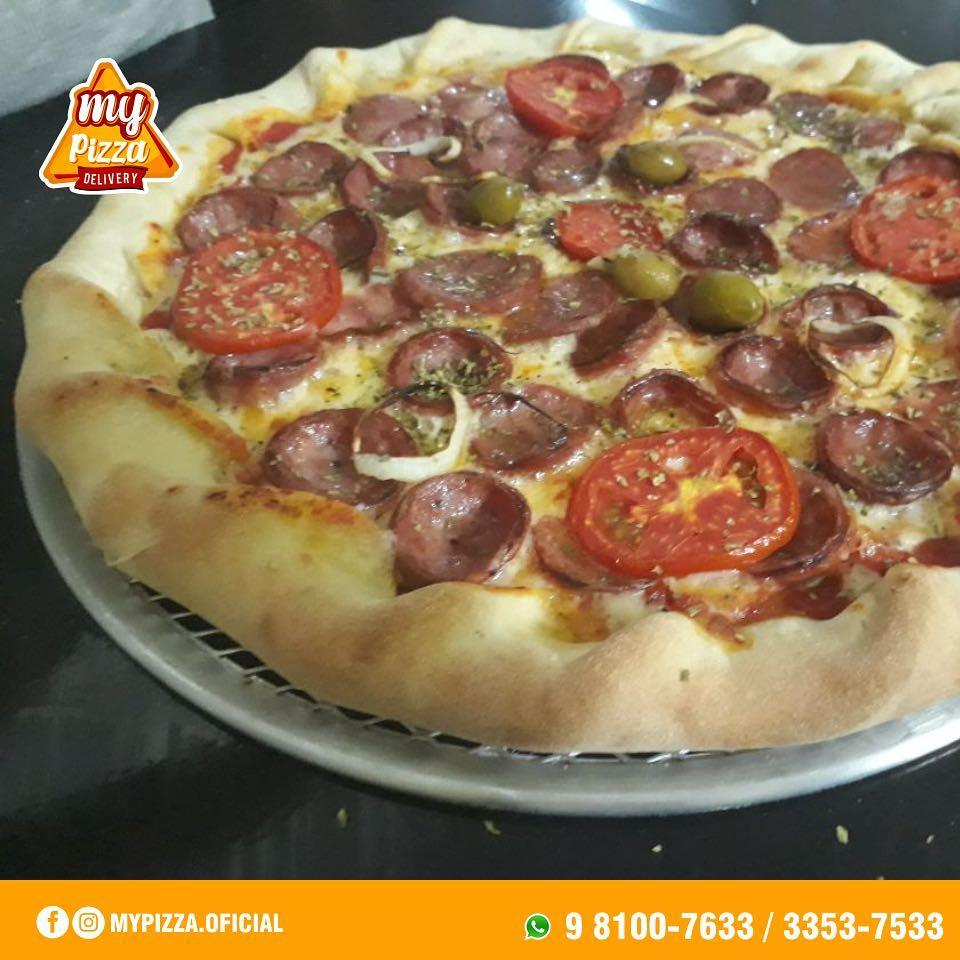Olives: (677, 261, 769, 333), (438, 170, 532, 233), (602, 238, 688, 302), (617, 135, 692, 190)
Onion: (346, 375, 475, 487), (791, 310, 915, 410)
Pepperoni: (387, 469, 535, 604), (255, 403, 423, 516), (450, 371, 606, 484), (811, 400, 959, 510), (743, 455, 854, 579), (710, 325, 846, 422), (383, 316, 514, 415), (782, 271, 902, 373), (494, 265, 633, 351), (400, 243, 549, 318), (201, 330, 336, 411), (611, 363, 748, 442), (169, 175, 295, 259), (527, 505, 644, 593), (767, 88, 915, 154), (566, 288, 674, 378), (667, 214, 787, 277), (675, 166, 793, 230), (763, 139, 864, 210), (338, 148, 438, 218), (243, 130, 348, 196), (673, 63, 777, 125), (301, 200, 394, 268), (324, 271, 409, 342), (373, 109, 467, 172), (338, 92, 443, 148), (473, 94, 545, 173), (529, 135, 611, 197), (430, 71, 509, 124), (872, 143, 960, 189), (616, 49, 688, 104), (675, 132, 753, 173)
Pizza: (17, 11, 960, 766)
Tomatoes: (562, 419, 804, 579), (163, 225, 349, 356), (843, 165, 960, 292), (502, 46, 625, 145), (543, 191, 677, 266)
